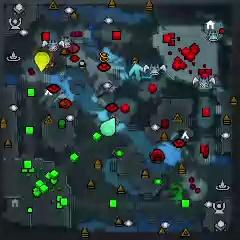p2: (99, 117, 117, 138)
p4: (35, 51, 50, 72)
x3: (130, 64, 146, 82)
x4: (167, 183, 184, 202)
